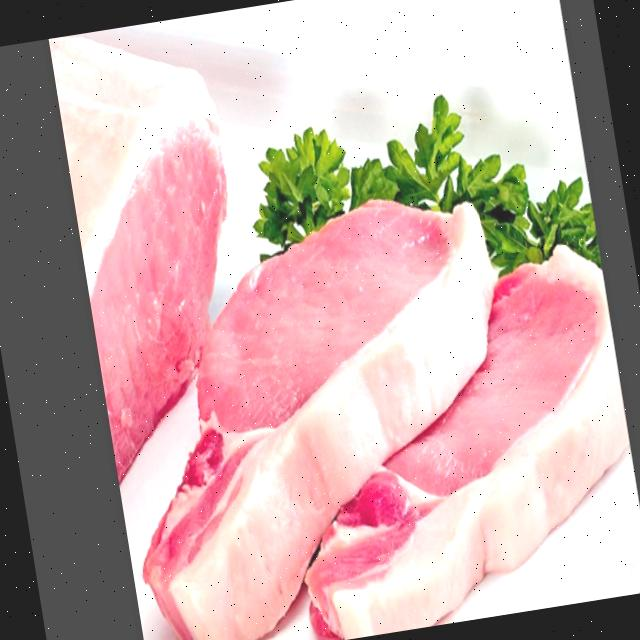meat: (92, 174, 549, 640), (261, 218, 640, 640), (49, 16, 266, 491)
